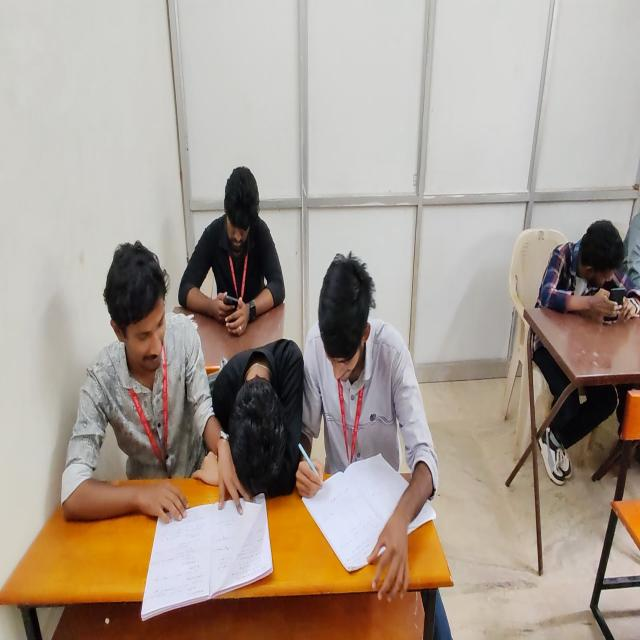reading: (55, 228, 239, 546)
sleeping: (212, 320, 310, 512)
using_mobile: (167, 154, 296, 333), (522, 195, 640, 334)
writing: (282, 235, 446, 602)
